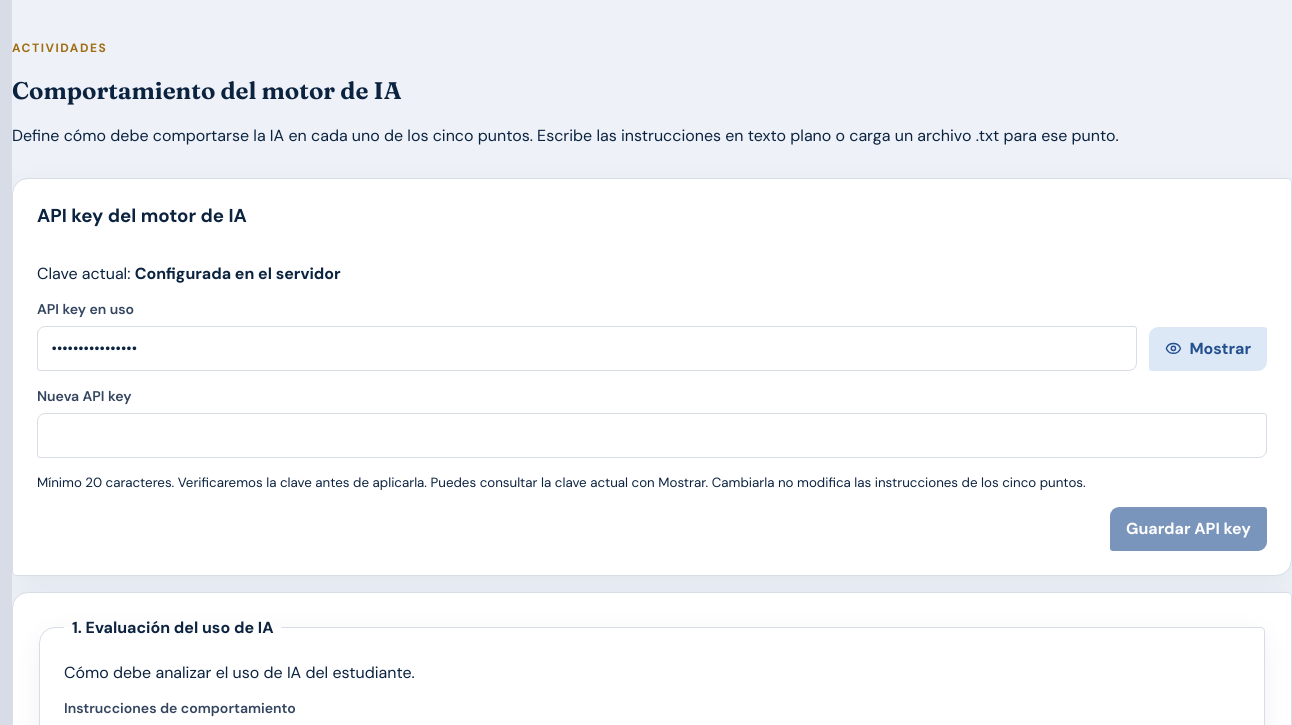
AdminAiSettings › reports a failed key update without changing its configured source
Step 1. Type "test-only-admin-panel-key" into the password field with id "ai-api-key" → coordinates (652, 435), box [37,413,1267,458]
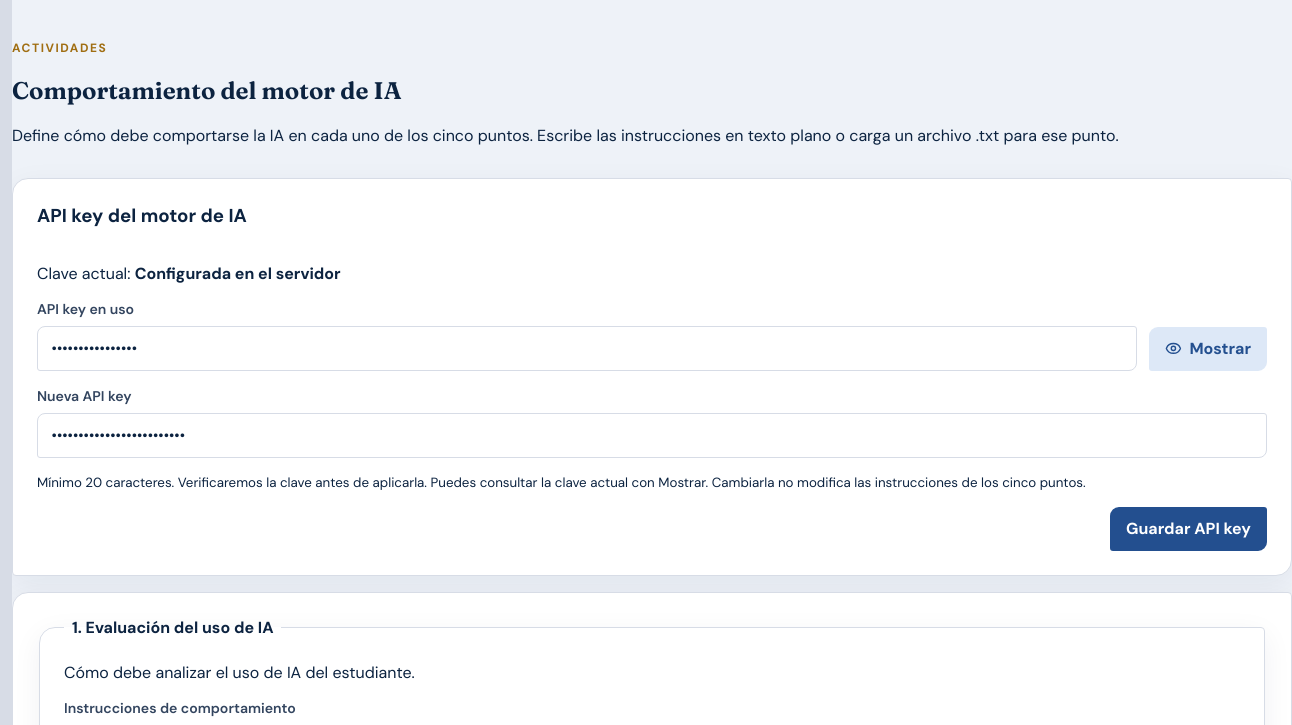
Step 2. Submit the form with class "ai-key-form", box [12,178,1291,576]
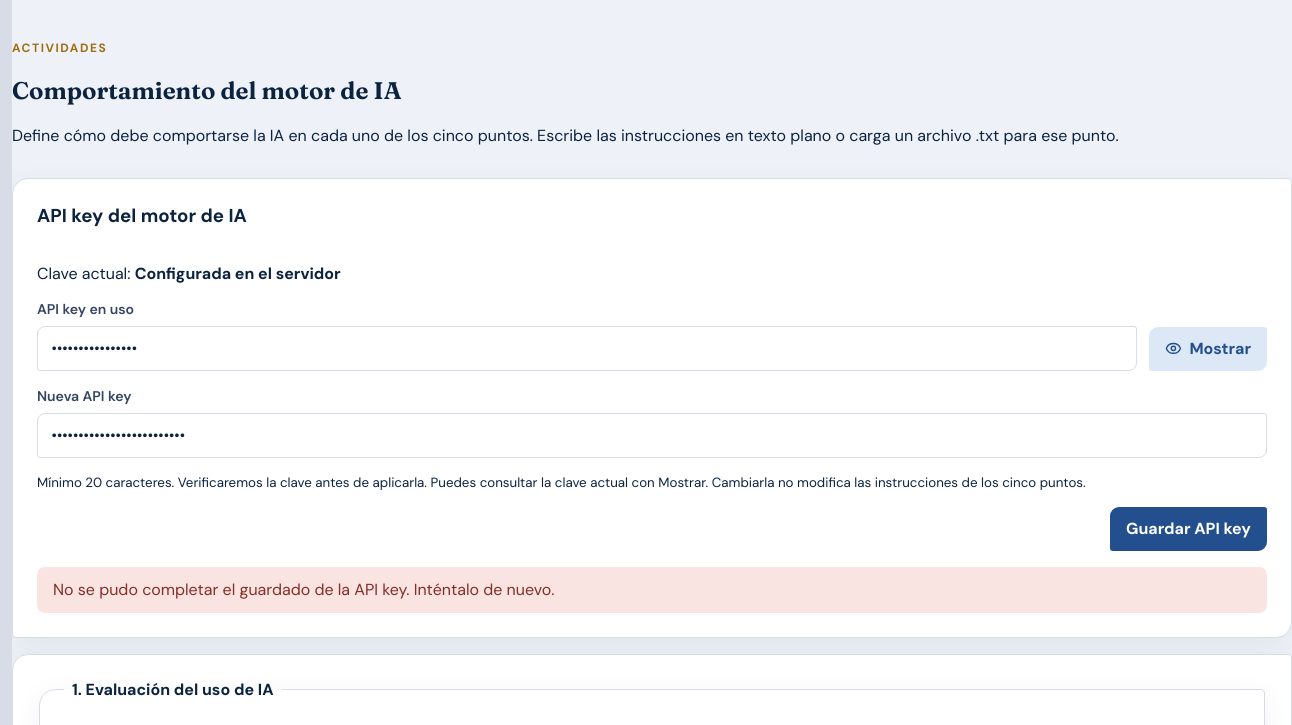
Expected: the text "Configurada en el servidor" is shown, [135,263,341,284]
Now the message "No se pudo completar el guardado de la API key. Inténtalo de nuevo." is shown, box [37,567,1267,613]
